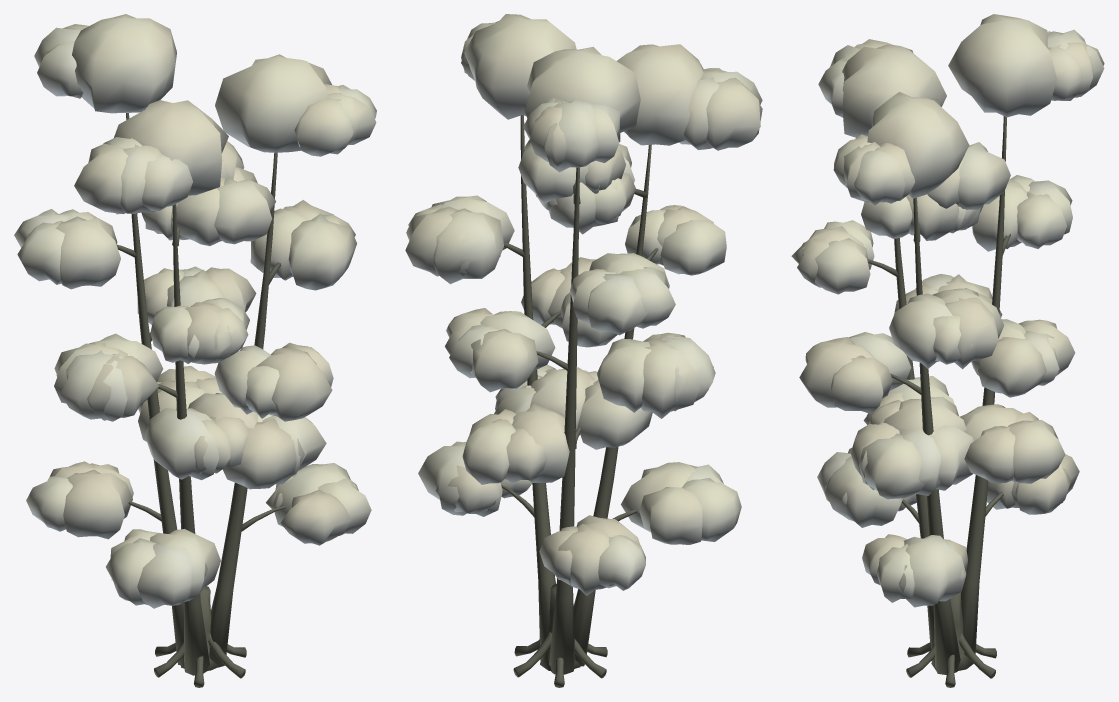
3 renders of one model, left to right at view 1: azimuth 30°, elevation 25°; view 2: azimuth 150°, elevation 25°; view 3: azimuth 270°, elevation 25°, orthographic. The views are drawn at different scales.
Parts seen in each view (by area): view 1: crown, trunk; view 2: crown, trunk; view 3: crown, trunk.
Part boxes in pixels (bbox=[...]): crown: bbox=[14, 14, 376, 608]; trunk: bbox=[116, 113, 286, 687]; crown: bbox=[405, 14, 762, 595]; trunk: bbox=[501, 115, 658, 687]; crown: bbox=[791, 14, 1104, 607]; trunk: bbox=[868, 116, 1010, 687].
Bounding box in the file's own units: 6.91 × 13.42 × 6.09.
